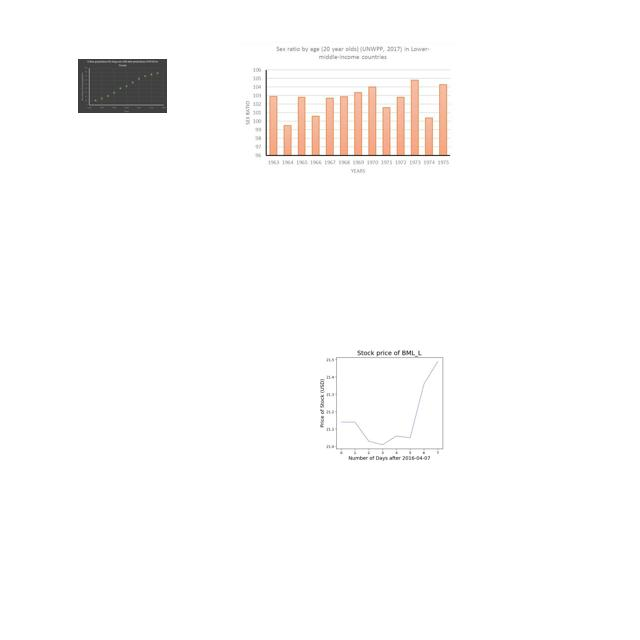Graph: (239, 42, 455, 178), (308, 343, 467, 462), (78, 59, 167, 113)
